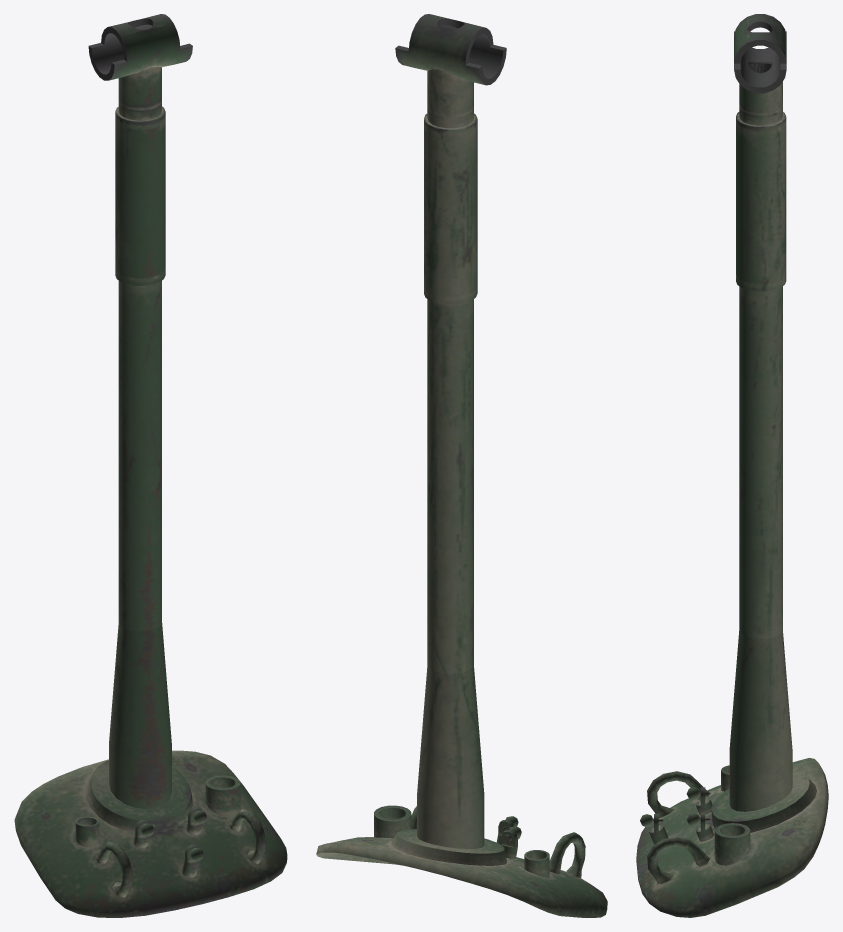
File: Gun_01.glb
3 views of the same model, side by side, from view 1: azimuth 30°, elevation 25°; view 2: azimuth 150°, elevation 25°; view 3: azimuth 270°, elevation 25° (orthographic). The views are drawn at different scales.
Parts seen in each view (by area): view 1: set_0_group_0; view 2: set_0_group_0; view 3: set_0_group_0.
Boxes of the visible parts, bbox=[...] form: set_0_group_0: bbox=[14, 14, 287, 917]; set_0_group_0: bbox=[316, 14, 607, 917]; set_0_group_0: bbox=[636, 14, 828, 917].
Size of the model in its own units: 1.03 by 3.68 by 0.7647.
1 material, 1 textured.
